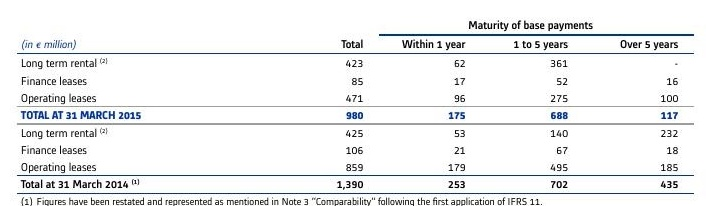table: (0, 0, 706, 206)
